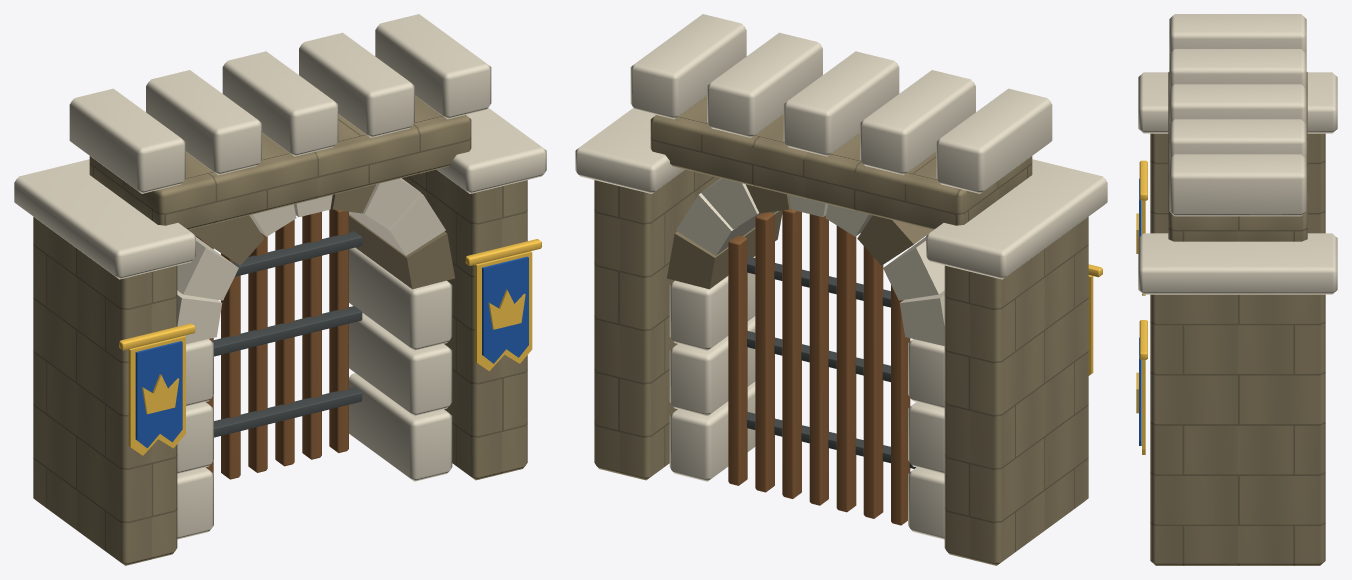
The model's file is capital-v2-gate.glb.
3 views of the same model, side by side, from view 1: azimuth 30°, elevation 25°; view 2: azimuth 150°, elevation 25°; view 3: azimuth 270°, elevation 25° (orthographic). The views are drawn at different scales.
Visible parts, largest first — view 1: module_gate__gate_buttress, module_gate__gate_lintel, module_gate__gate_buttress.001, module_gate__gate_pier_cap, module_gate__gate_crenel, module_gate__gate_crenel.004, module_gate__gate_crenel.002, module_gate__gate_crenel.001, module_gate__gate_crenel.003, module_gate__gate_arch_jamb.004, module_gate__gate_arch_jamb.003, module_gate__gate_arch_jamb.005 (+28 smaller); view 2: module_gate__gate_buttress, module_gate__gate_buttress.001, module_gate__gate_lintel, module_gate__gate_pier_cap, module_gate__gate_crenel, module_gate__gate_crenel.004, module_gate__gate_crenel.002, module_gate__gate_crenel.001, module_gate__gate_crenel.003, module_gate__portcullis_oak.002, module_gate__portcullis_oak.003, module_gate__portcullis_oak.004 (+22 smaller); view 3: module_gate__gate_buttress.001, module_gate__gate_pier_cap.001, module_gate__gate_crenel.004, module_gate__gate_crenel.002, module_gate__gate_crenel.001, module_gate__gate_crenel.003, module_gate__gate_crenel, module_gate__gate_lintel, module_gate__gate_buttress, module_gate__gate_pier_cap, module_gate__gate_royal_banner__banner_gold_hem.001, module_gate__gate_royal_banner__banner_crossbar (+2 smaller).
Part boxes in pixels (bbox=[...]): module_gate__gate_buttress: bbox=[33, 217, 177, 565]; module_gate__gate_lintel: bbox=[89, 96, 471, 229]; module_gate__gate_buttress.001: bbox=[402, 169, 527, 480]; module_gate__gate_pier_cap: bbox=[14, 159, 195, 279]; module_gate__gate_crenel: bbox=[69, 88, 185, 193]; module_gate__gate_crenel.004: bbox=[375, 14, 491, 119]; module_gate__gate_crenel.002: bbox=[222, 51, 338, 156]; module_gate__gate_crenel.001: bbox=[146, 70, 261, 175]; module_gate__gate_crenel.003: bbox=[299, 32, 414, 137]; module_gate__gate_arch_jamb.004: bbox=[349, 313, 452, 416]; module_gate__gate_arch_jamb.003: bbox=[349, 373, 452, 481]; module_gate__gate_arch_jamb.005: bbox=[349, 247, 452, 350]; module_gate__gate_buttress: bbox=[944, 217, 1088, 565]; module_gate__gate_buttress.001: bbox=[594, 169, 719, 480]; module_gate__gate_lintel: bbox=[650, 96, 1032, 229]; module_gate__gate_pier_cap: bbox=[926, 159, 1107, 279]; module_gate__gate_crenel: bbox=[936, 88, 1052, 193]; module_gate__gate_crenel.004: bbox=[630, 14, 746, 119]; module_gate__gate_crenel.002: bbox=[783, 51, 899, 156]; module_gate__gate_crenel.001: bbox=[860, 70, 975, 175]; module_gate__gate_crenel.003: bbox=[707, 32, 822, 137]; module_gate__portcullis_oak.002: bbox=[836, 225, 856, 512]; module_gate__portcullis_oak.003: bbox=[809, 214, 828, 505]; module_gate__portcullis_oak.004: bbox=[782, 208, 801, 498]; module_gate__gate_buttress.001: bbox=[1150, 294, 1325, 565]; module_gate__gate_pier_cap.001: bbox=[1138, 233, 1337, 294]; module_gate__gate_crenel.004: bbox=[1169, 154, 1306, 216]; module_gate__gate_crenel.002: bbox=[1169, 84, 1306, 123]; module_gate__gate_crenel.001: bbox=[1169, 49, 1306, 88]; module_gate__gate_crenel.003: bbox=[1169, 119, 1306, 158]; module_gate__gate_crenel: bbox=[1169, 14, 1306, 53]; module_gate__gate_lintel: bbox=[1168, 72, 1307, 241]; module_gate__gate_buttress: bbox=[1150, 133, 1325, 233]; module_gate__gate_pier_cap: bbox=[1138, 72, 1337, 133]; module_gate__gate_royal_banner__banner_gold_hem.001: bbox=[1142, 360, 1145, 454]; module_gate__gate_royal_banner__banner_crossbar: bbox=[1139, 160, 1147, 200].
Bounding box in the file's own units: 0.212 × 0.19 × 0.0909.
6 materials, 1 textured.
